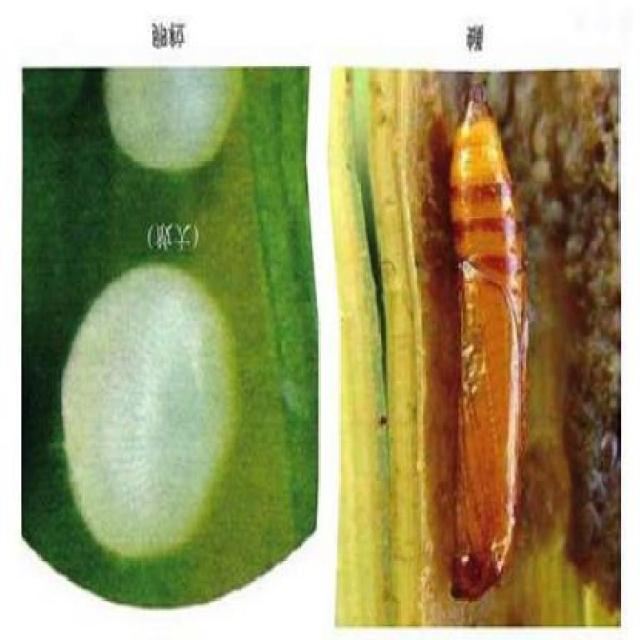whorl-maggot: (446, 76, 525, 609)
